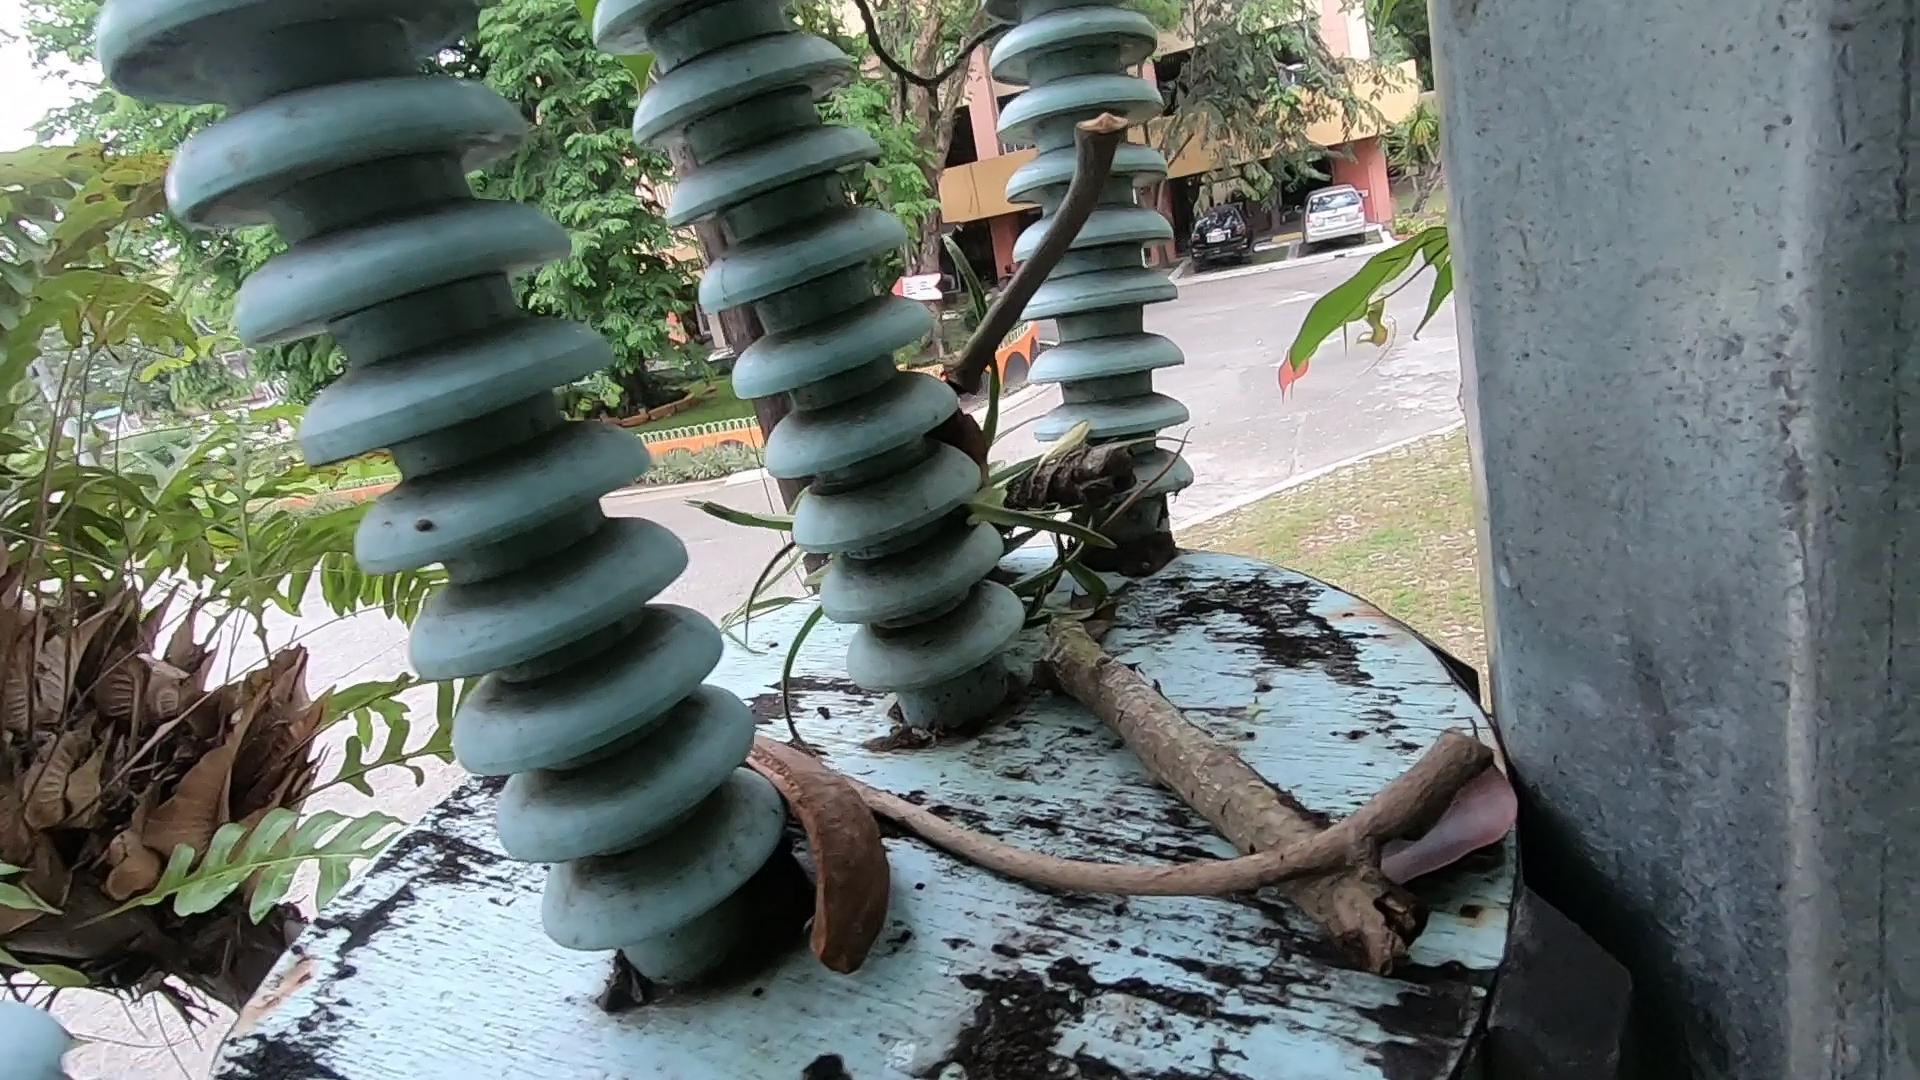branch with leaves: (943, 442, 1449, 963)
leaf: (1410, 719, 1514, 920)
mahogany fruit: (694, 723, 909, 980)
tree branch: (800, 803, 1516, 911), (982, 113, 1126, 413)
